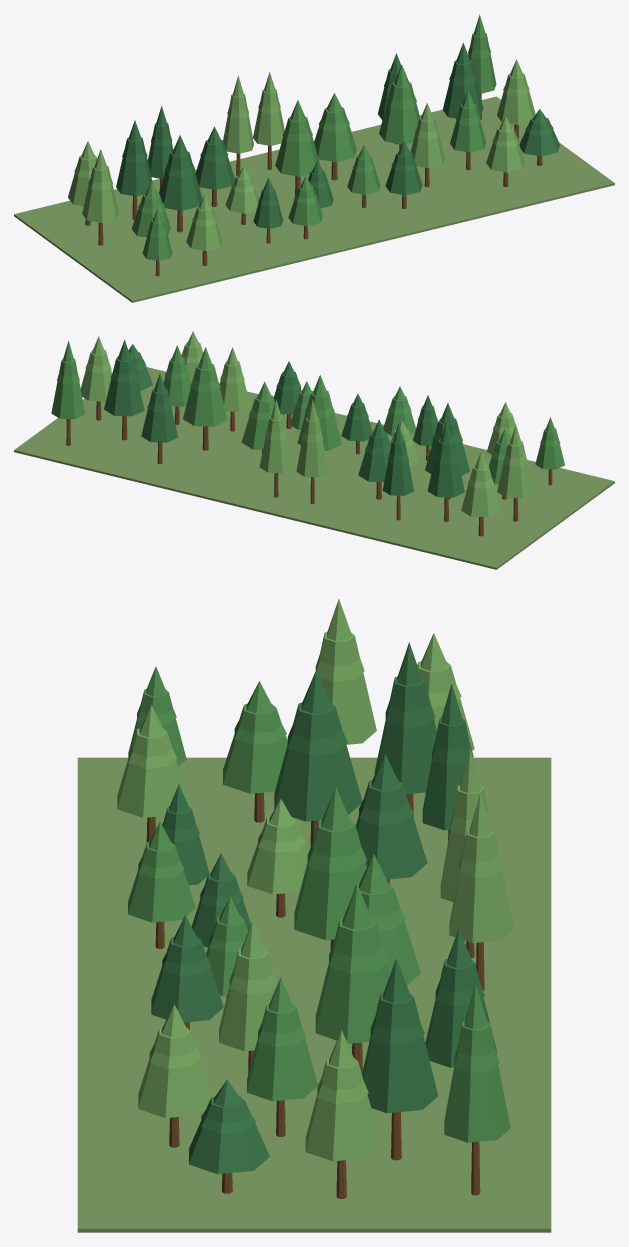
File: FarTreeCluster.glb
3 renders of one model, top to bottom at view 1: azimuth 30°, elevation 25°; view 2: azimuth 150°, elevation 25°; view 3: azimuth 270°, elevation 25°, orthographic. The views are drawn at different scales.
Visible parts, largest first — view 1: FTF_Distant_TreeLineCluster_80m; view 2: FTF_Distant_TreeLineCluster_80m; view 3: FTF_Distant_TreeLineCluster_80m.
Part boxes in pixels (box(x1,y1,x2,y2)): FTF_Distant_TreeLineCluster_80m: box(14, 14, 614, 302); FTF_Distant_TreeLineCluster_80m: box(14, 331, 614, 569); FTF_Distant_TreeLineCluster_80m: box(77, 599, 551, 1232).
Bounding box in the file's own units: 80 × 16.95 × 34.
